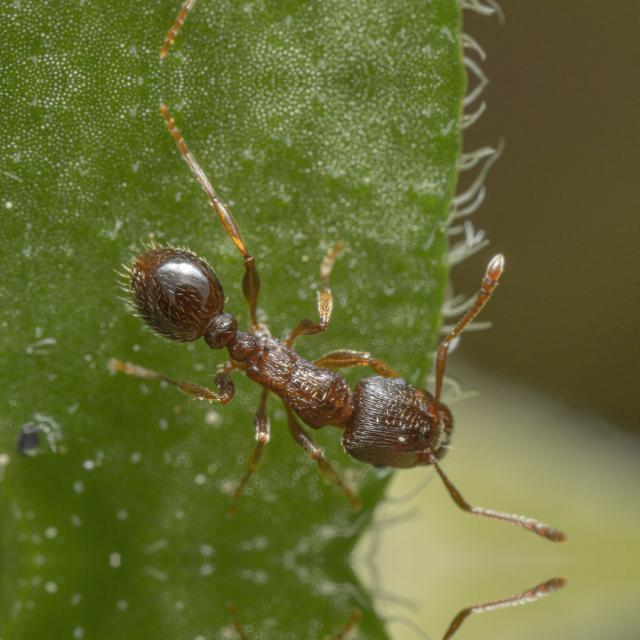Tetramorium: (126, 181, 484, 511)
